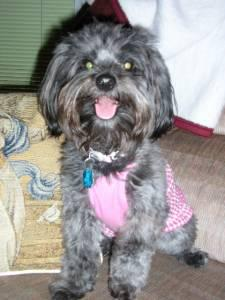dog-yorkshire_terrier: (41, 22, 169, 133)
